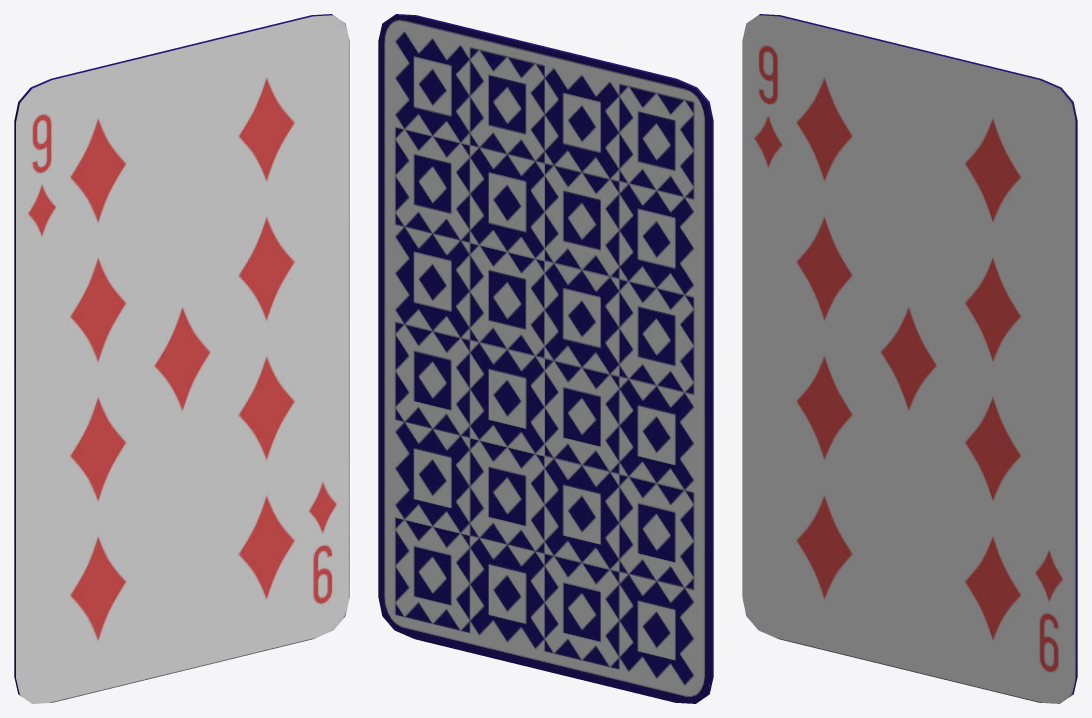
3 renders of one model, left to right at view 1: azimuth 30°, elevation 25°; view 2: azimuth 150°, elevation 25°; view 3: azimuth 330°, elevation 25°, orthographic.
Visible parts, largest first — view 1: Nine of Diamonds; view 2: Nine of Diamonds; view 3: Nine of Diamonds.
Boxes of the visible parts, x1,y1,x2,y2 form: Nine of Diamonds: [14, 14, 349, 703]; Nine of Diamonds: [378, 14, 713, 703]; Nine of Diamonds: [742, 14, 1077, 703].
Size of the model in its own units: 1.43 by 2.54 by 0.0125.
3 materials, 3 textured.
